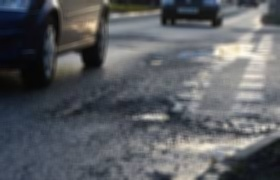pothole: (89, 94, 182, 122)
